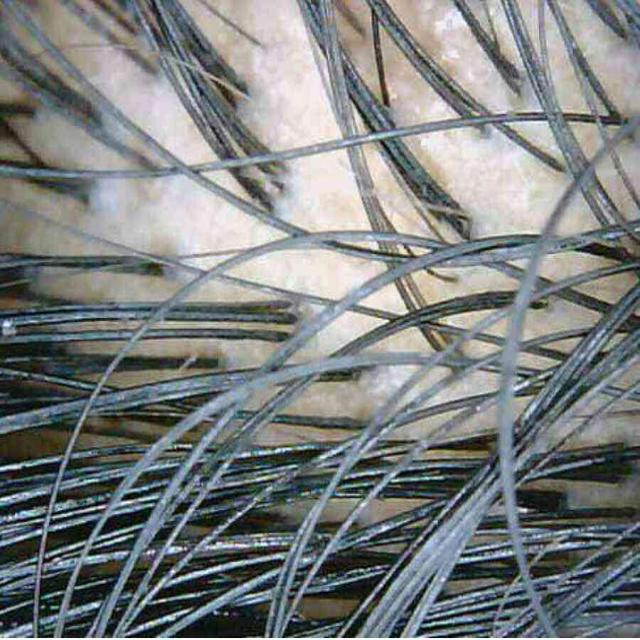d: (2, 318, 16, 336)
